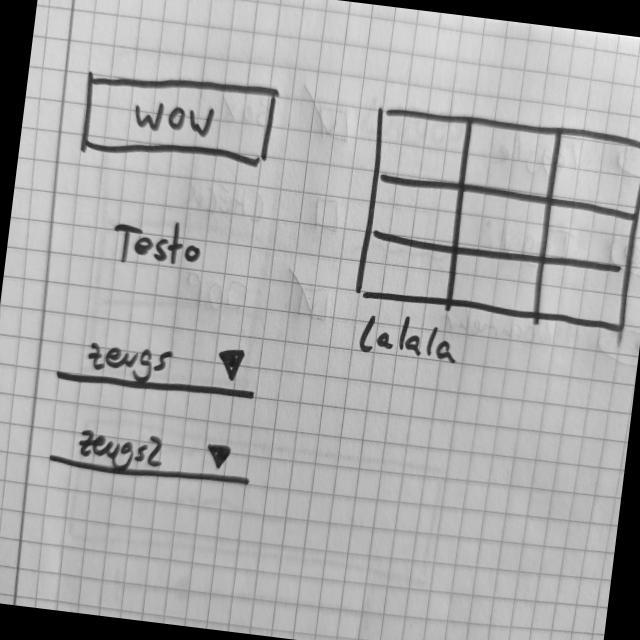button: (76, 61, 282, 176)
label: (354, 305, 461, 367), (107, 213, 205, 273)
select: (53, 322, 263, 408), (44, 415, 258, 492)
table: (350, 100, 640, 337)
